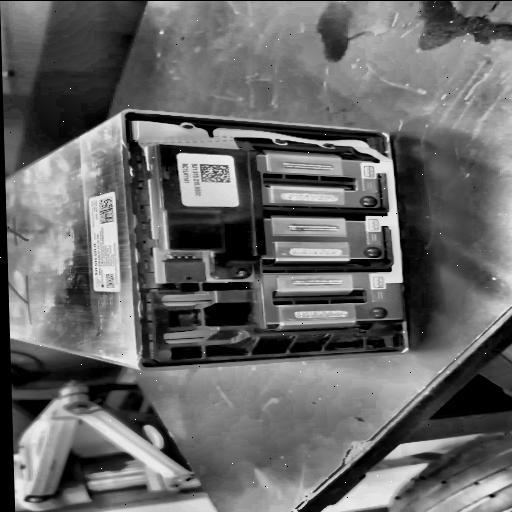battery_module: (6, 109, 410, 369)
